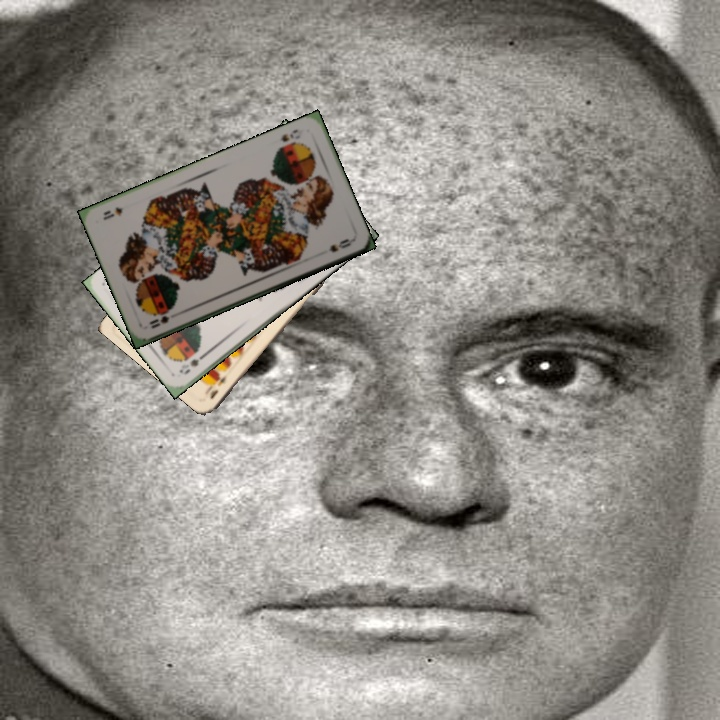E10: (206, 371, 230, 402)
SO: (175, 348, 210, 377), (145, 308, 172, 331), (277, 125, 306, 145)
